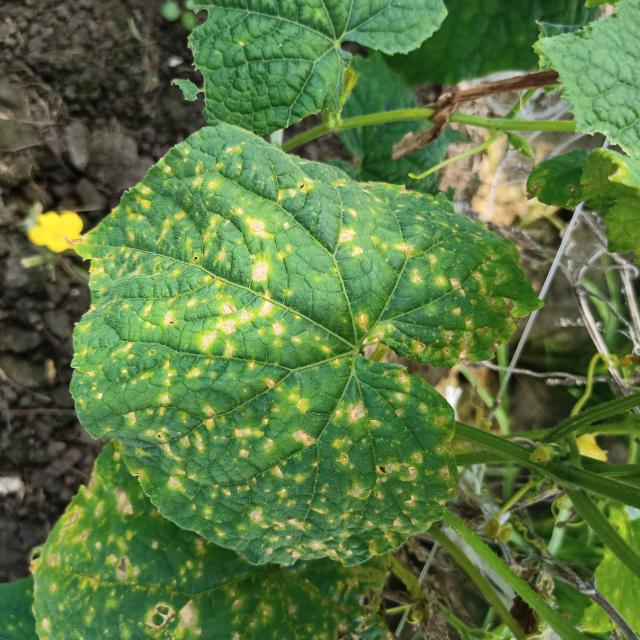disease_cucumber: (71, 138, 522, 566), (32, 457, 397, 640)
